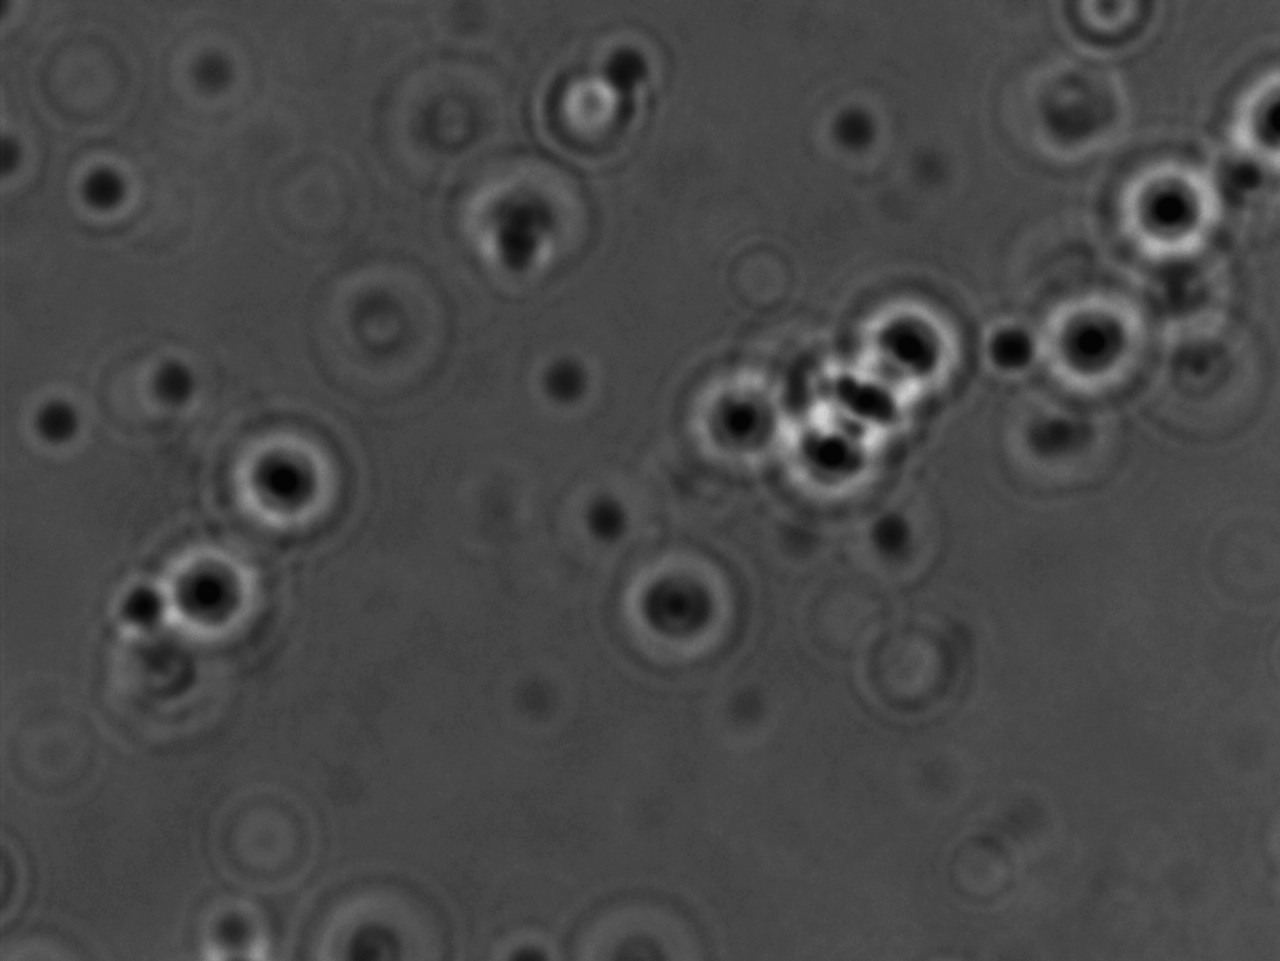depth:-24: (765, 380, 903, 522), (218, 409, 359, 541), (139, 525, 278, 648), (846, 265, 971, 400), (1030, 280, 1151, 412), (1108, 149, 1237, 271), (671, 352, 789, 472)
